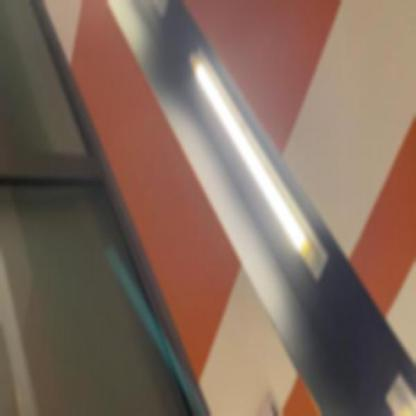light_on: (175, 40, 335, 282), (371, 351, 415, 416)
